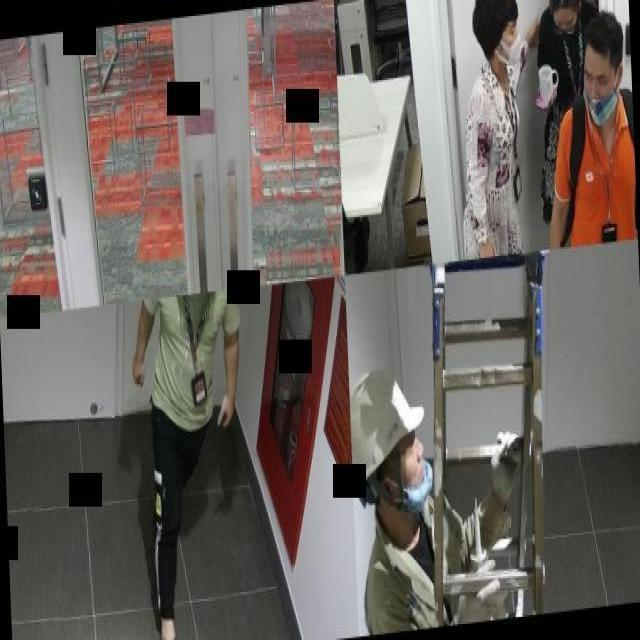hairnet: (396, 418, 434, 514), (583, 55, 617, 124)
